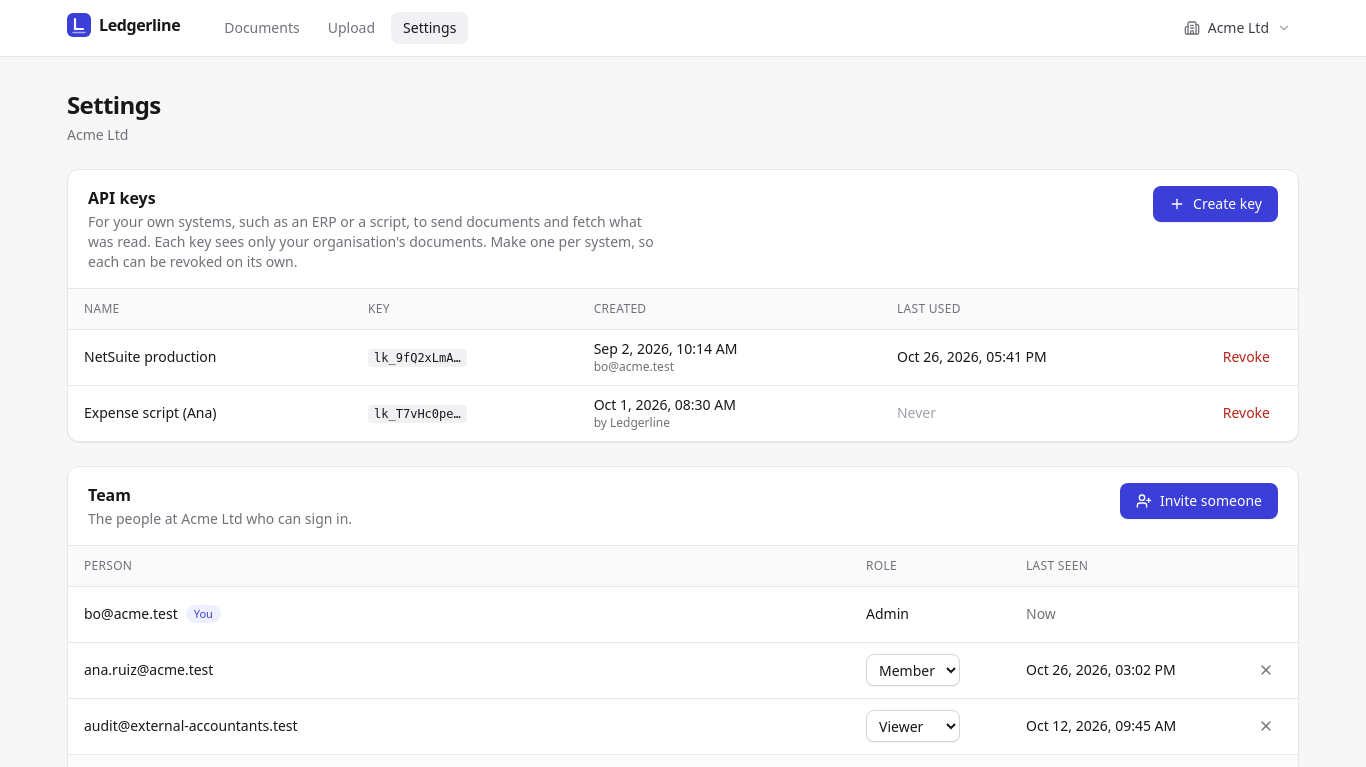
Test: the team › changes a role, and shows the server's reason when it refuses
Select "Admin" in the dropdown named "Role of ana.ruiz@acme.test" at (913, 670), box [866, 654, 960, 686]
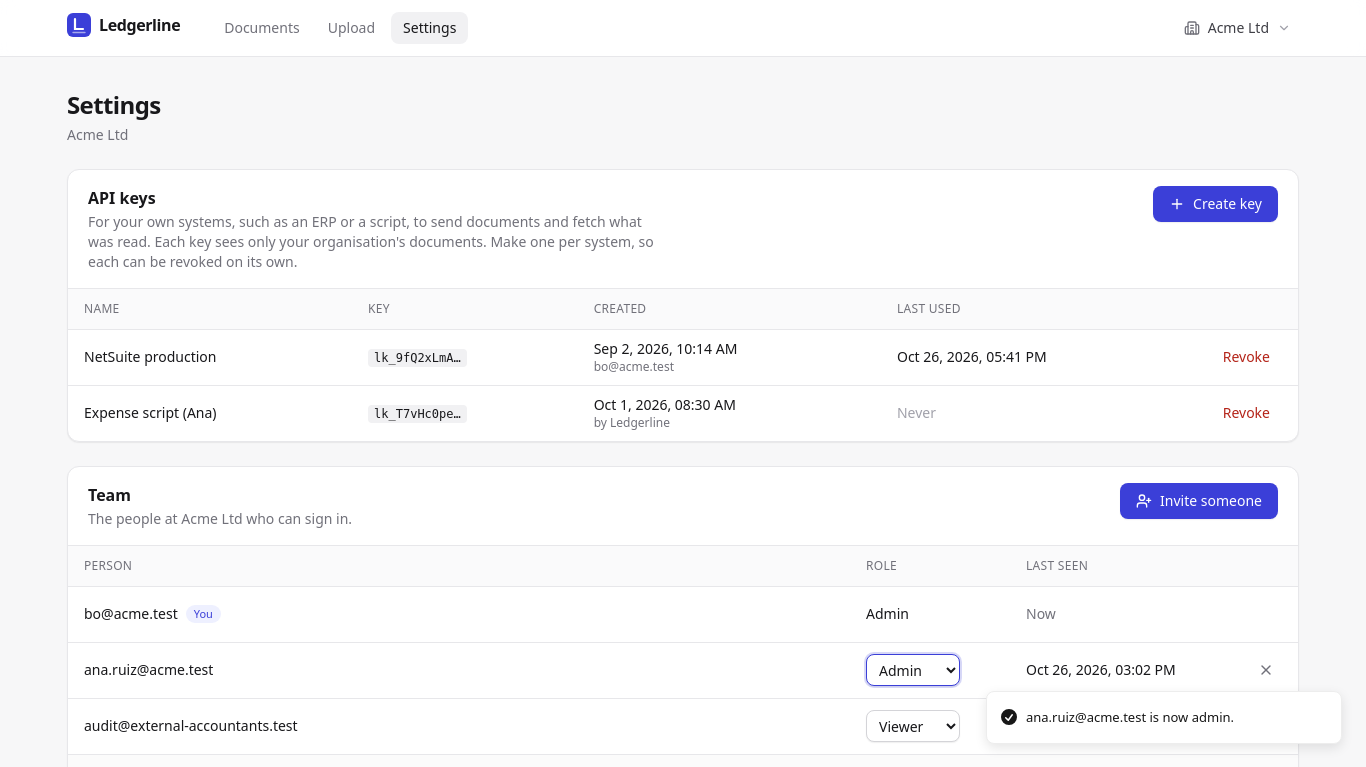
Expected: the text "ana.ruiz@acme.test is now admin." is shown, [1026, 708, 1234, 727]
Select "Viewer" in the dropdown named "Role of ana.ruiz@acme.test" at (913, 670), box [866, 654, 960, 686]
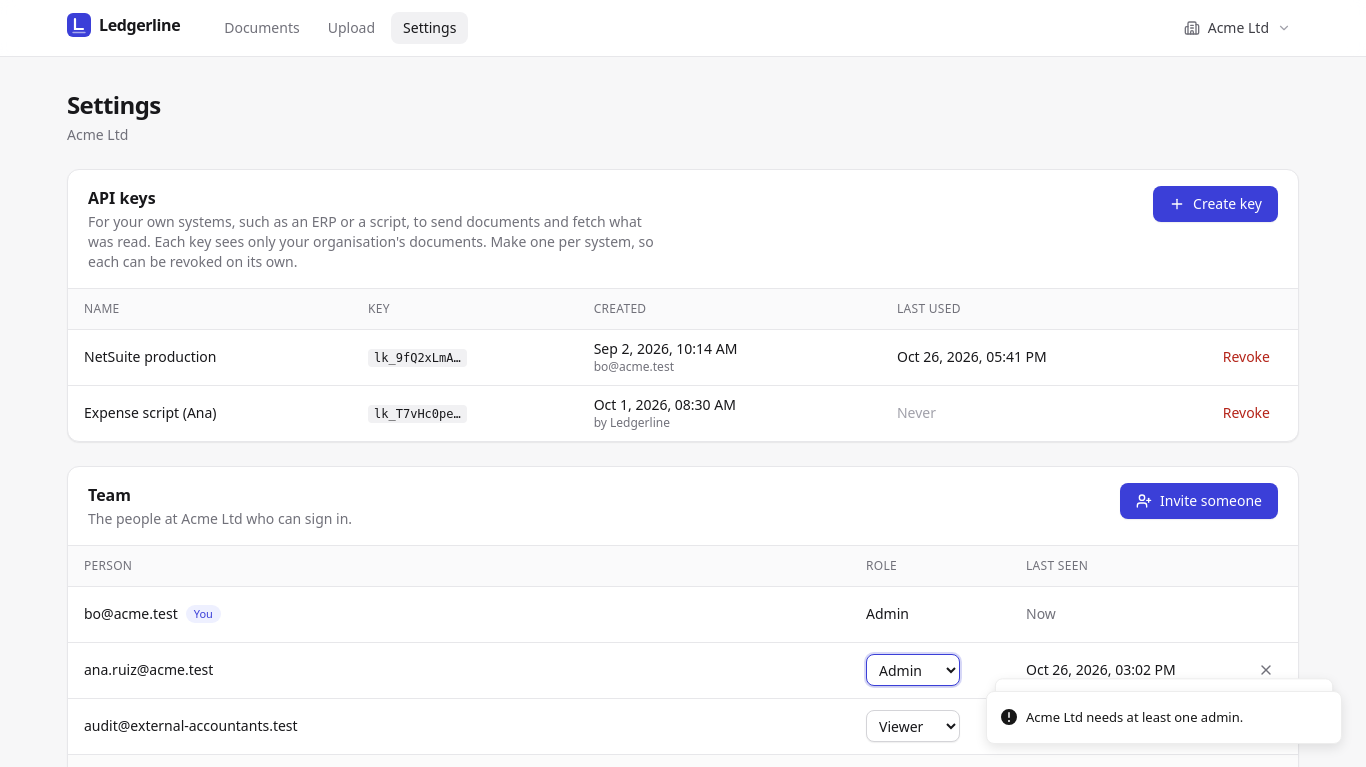
Expected: the text "Acme Ltd needs at least one admin." is shown, [1026, 708, 1243, 727]
